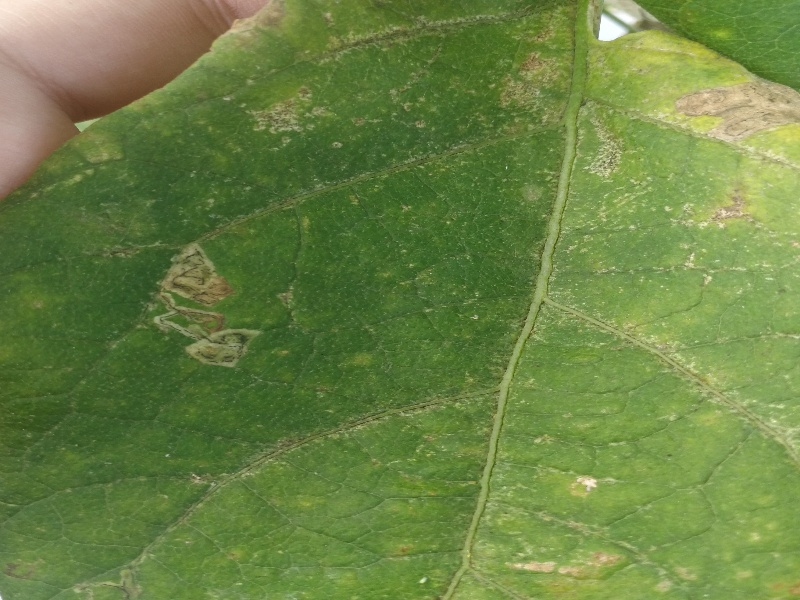leafminer: (126, 226, 257, 377), (668, 63, 800, 149)
